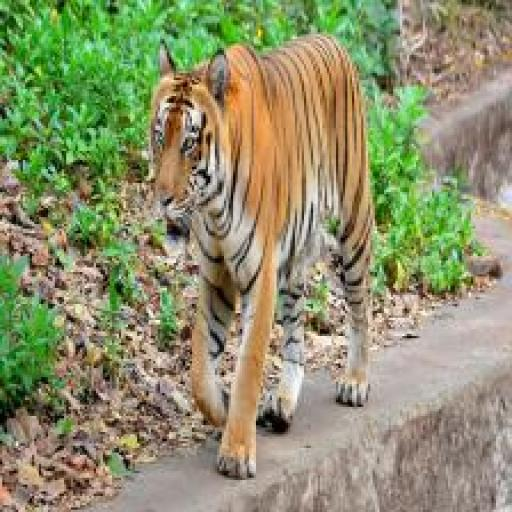Tiger: (126, 23, 396, 496)
